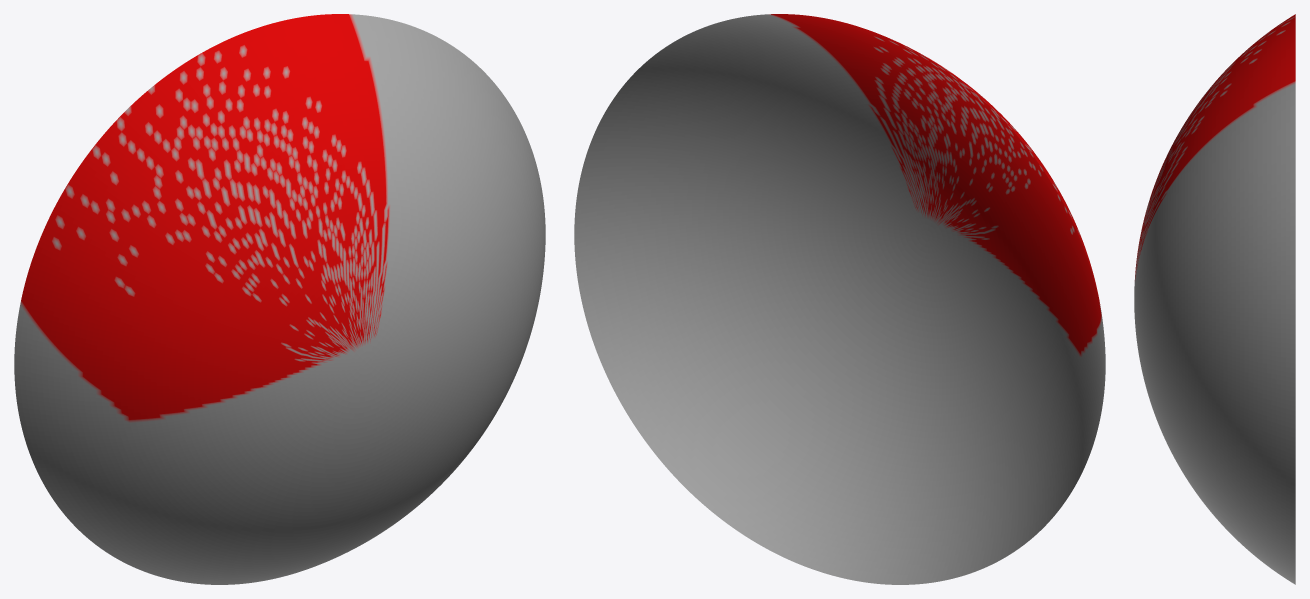
Rendered from dome_sky_model.glb.
The picture shows the model from 3 angles, left to right: view 1: azimuth 30°, elevation 25°; view 2: azimuth 150°, elevation 25°; view 3: azimuth 270°, elevation 25°; orthographic projection. The views are drawn at different scales.
Visible parts, largest first — view 1: world; view 2: world; view 3: world.
Boxes of the visible parts, x1,y1,x2,y2 form: world: [14, 14, 545, 584]; world: [574, 14, 1105, 584]; world: [1134, 14, 1295, 584].
Size of the model in its own units: 85.72 by 85.72 by 24.25.
